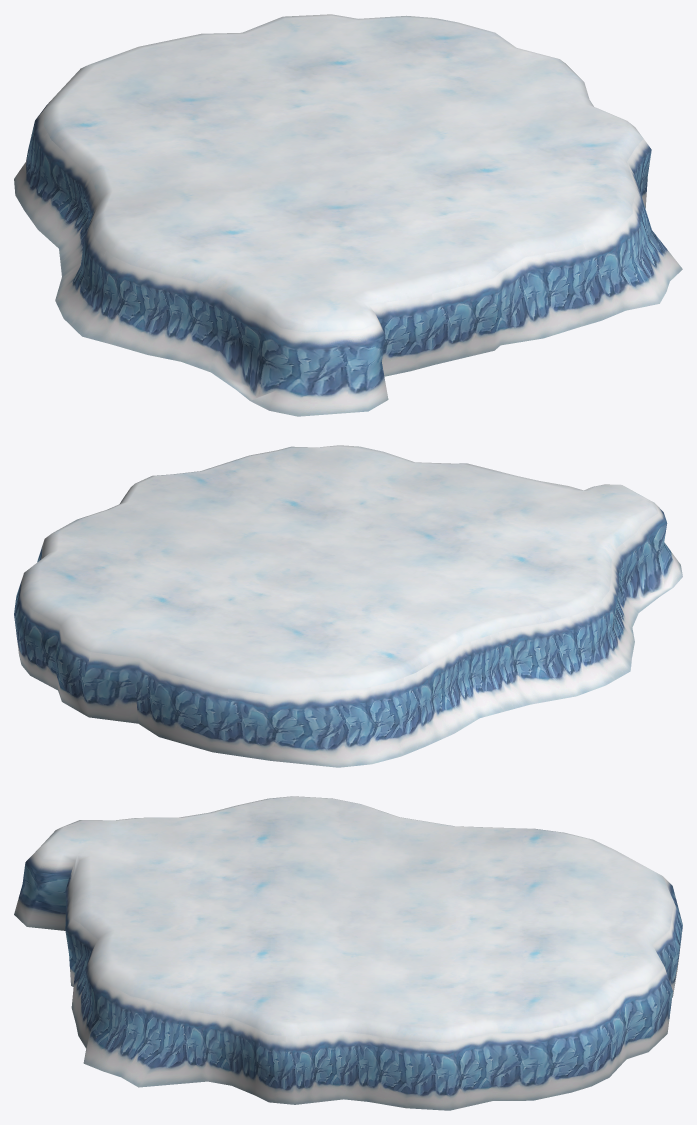
File: SM_ground_01.fbx
3 views of the same model, one above another, from view 1: azimuth 30°, elevation 25°; view 2: azimuth 150°, elevation 25°; view 3: azimuth 270°, elevation 25° (orthographic). The views are drawn at different scales.
Parts seen in each view (by area): view 1: SM_ground_01; view 2: SM_ground_01; view 3: SM_ground_01.
Boxes of the visible parts, x1,y1,x2,y2 form: SM_ground_01: (14,14,682,416); SM_ground_01: (14,445,682,767); SM_ground_01: (14,796,682,1110).
Bounding box in the file's own units: 23.83 × 3.22 × 25.87.
